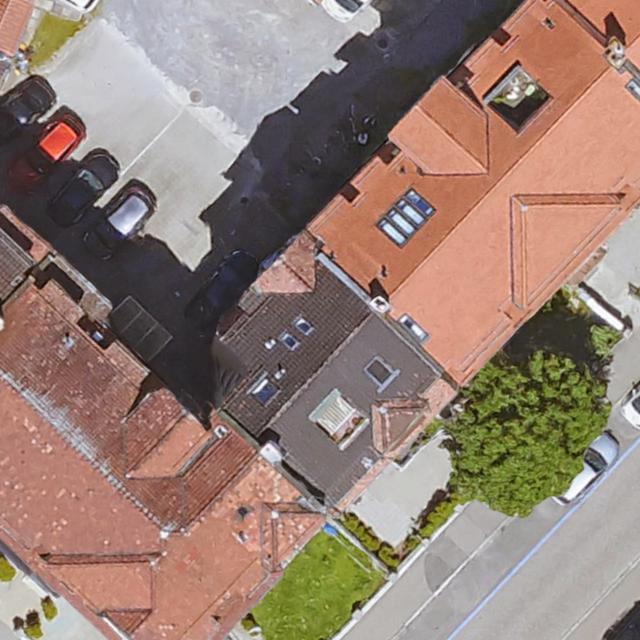tree: (449, 350, 607, 517)
